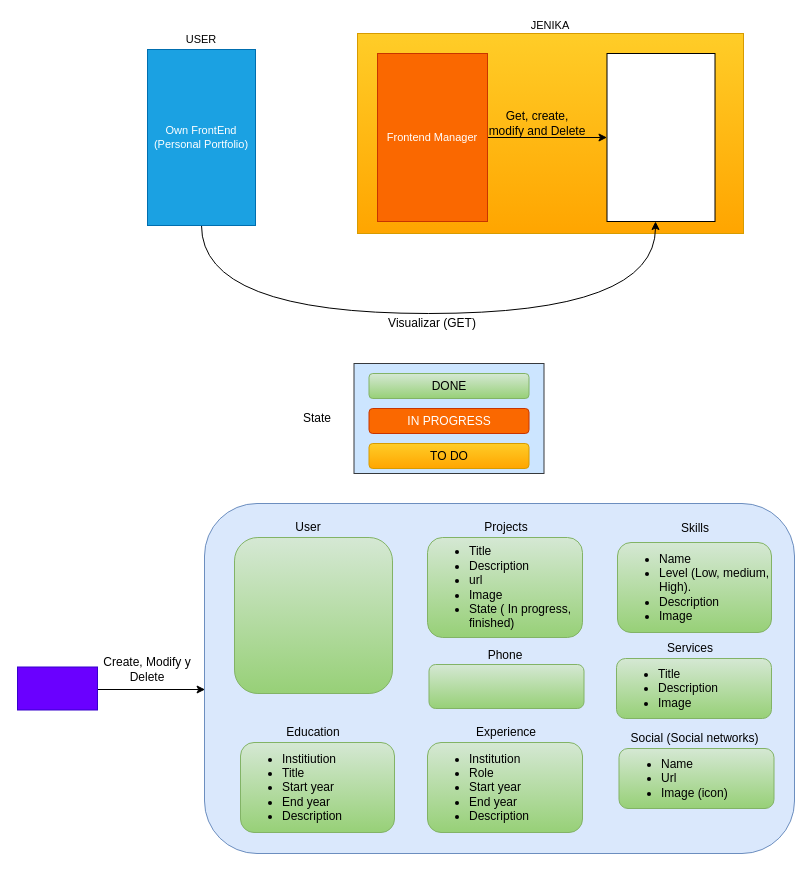
Image size: 812x871. Some labels were removed from this diagram. The shapes that lost their labels are listed below. From the top down, each one's centre as x and y in pixels, then its label:
the point at 660,137: Backend (GraphQL & NestJS)
the point at 313,615: Names Last Names Description Email Country City Direction Image Api_Token
the point at 57,688: Frontend Manager (Angular)
the point at 506,686: Type Number
